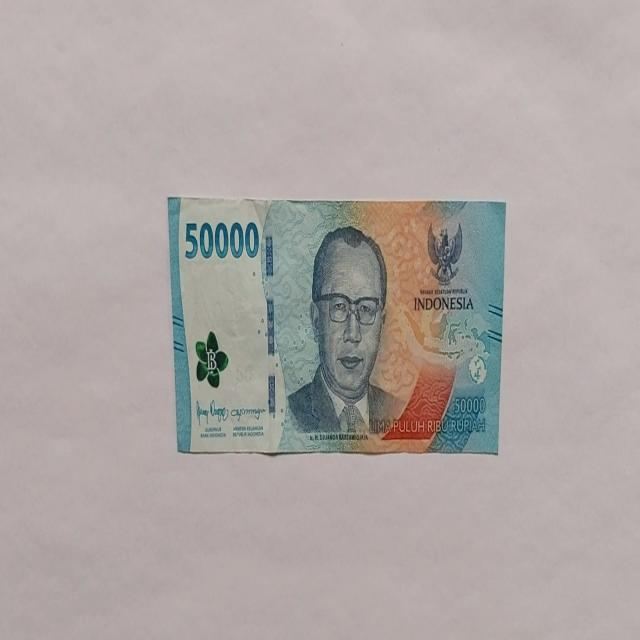lima puluh ribu rupiah: (167, 194, 506, 457), (281, 223, 408, 444), (183, 216, 260, 262)
